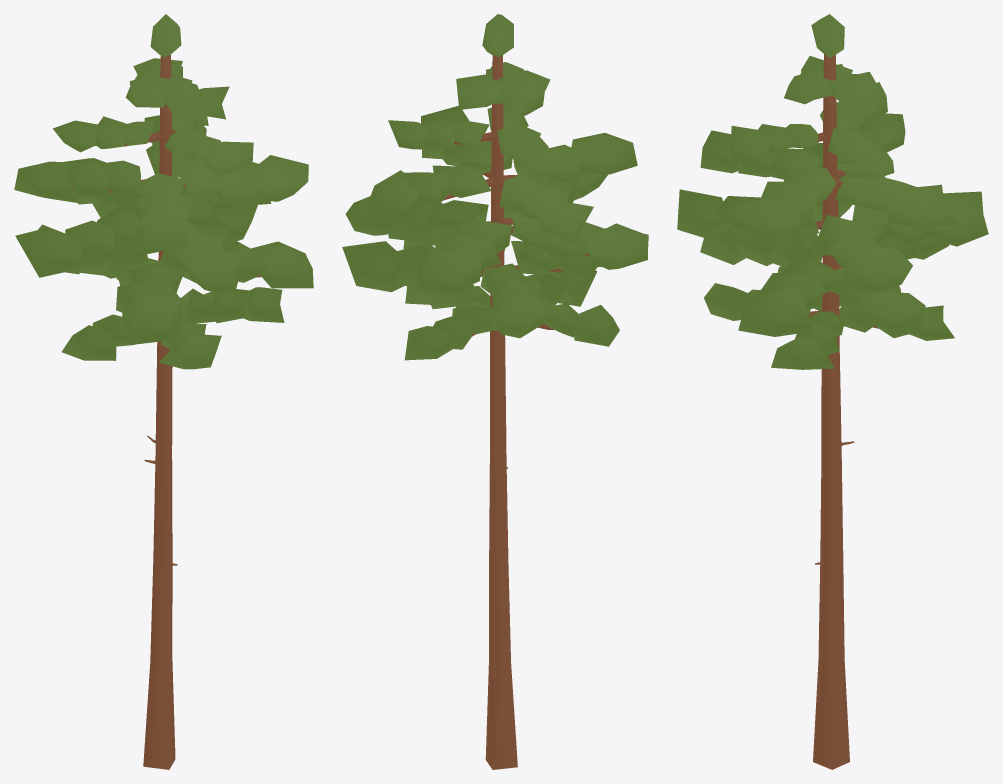
File: Blender_ShortleafPine_2_Far.glb
3 renders of one model, left to right at view 1: azimuth 30°, elevation 25°; view 2: azimuth 150°, elevation 25°; view 3: azimuth 270°, elevation 25°, orthographic.
Visible parts, largest first — view 1: Blender_ShortleafPine_2_Far; view 2: Blender_ShortleafPine_2_Far; view 3: Blender_ShortleafPine_2_Far.
Boxes of the visible parts, bbox=[...] form: Blender_ShortleafPine_2_Far: bbox=[14, 14, 313, 769]; Blender_ShortleafPine_2_Far: bbox=[342, 14, 648, 769]; Blender_ShortleafPine_2_Far: bbox=[677, 14, 988, 769].
Bounding box in the file's own units: 9.61 × 26.06 × 9.8.
